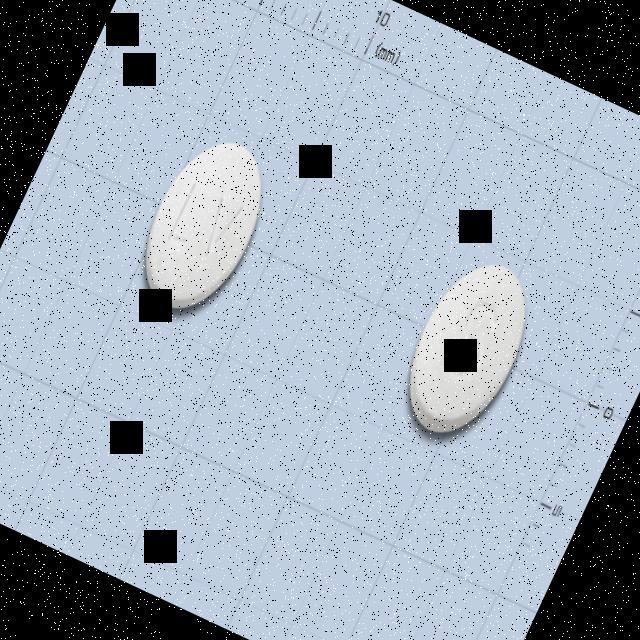Levobacter: (121, 121, 288, 328), (386, 244, 552, 452)
